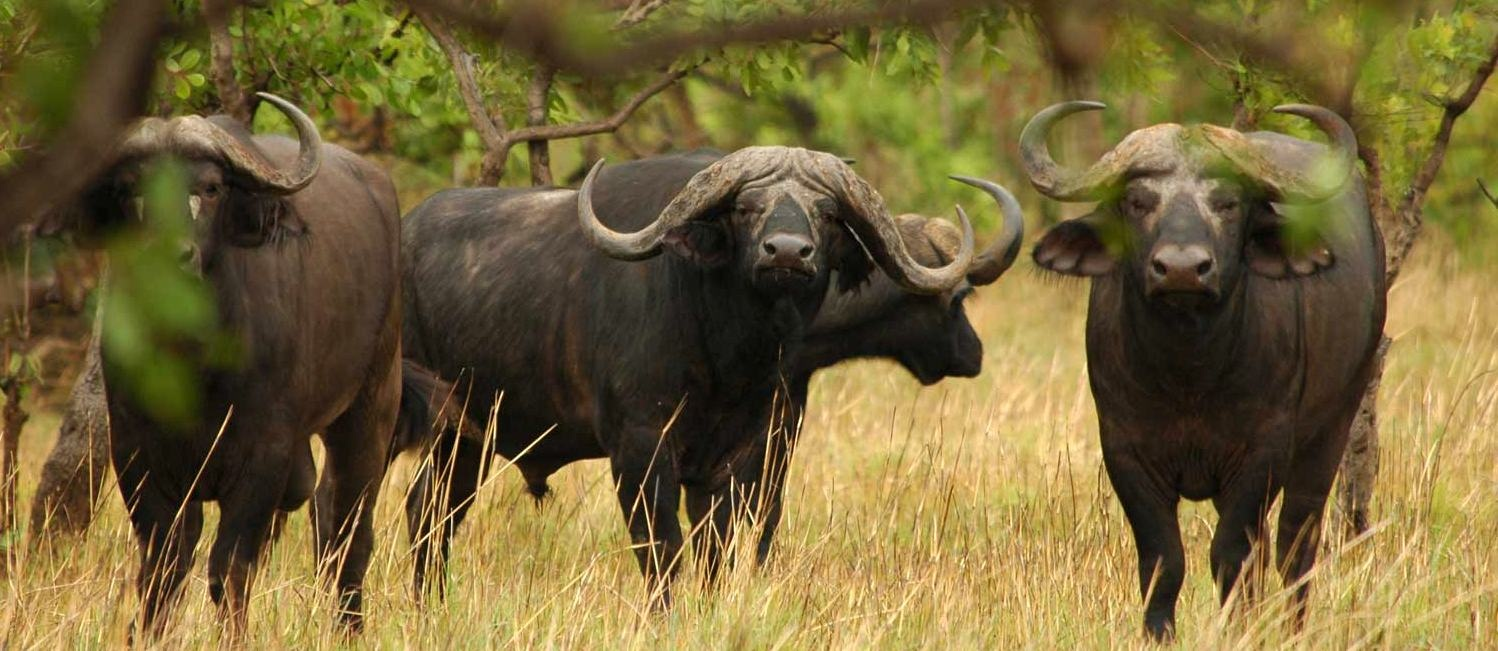buffalo: (391, 143, 971, 610), (54, 85, 403, 651), (1032, 102, 1392, 645)
